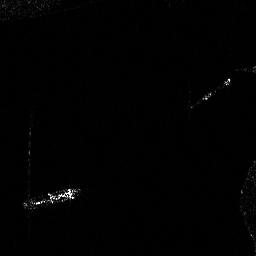ship: (24, 185, 78, 210), (202, 77, 231, 101)
